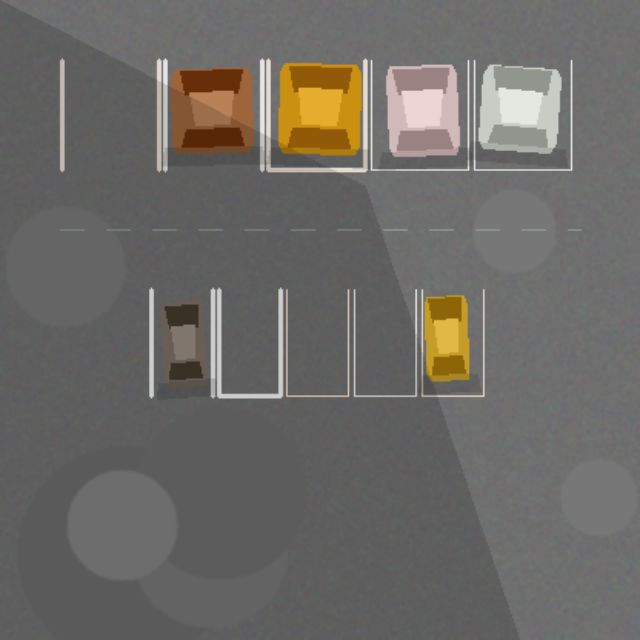space-empty: (62, 60, 158, 169), (218, 289, 280, 395), (286, 289, 348, 395), (354, 289, 415, 395)
space-occupied: (165, 60, 262, 169), (268, 60, 365, 169), (371, 60, 468, 169), (474, 60, 571, 169), (151, 289, 212, 395), (422, 289, 483, 395)
